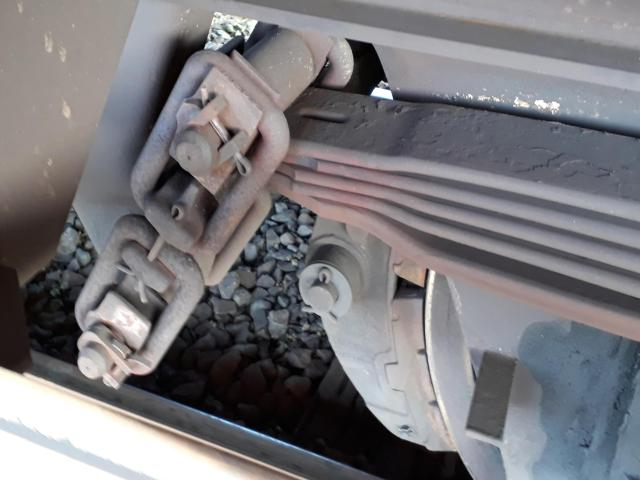blattfederww: (318, 84, 640, 313)
